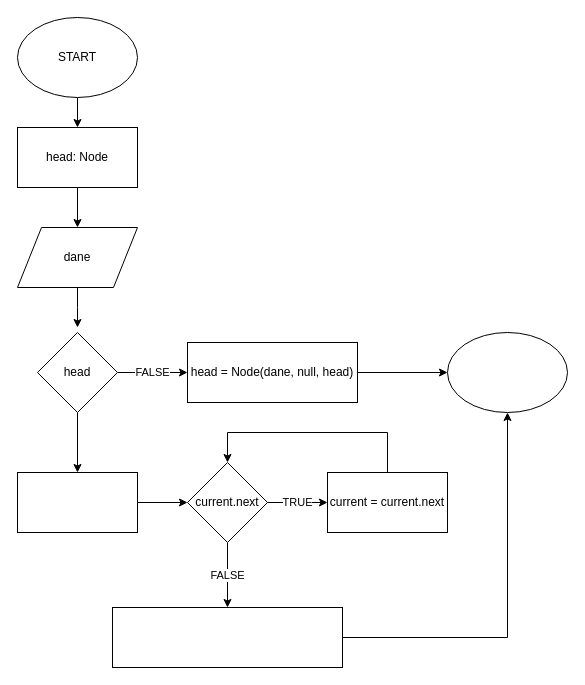
Some shapes in this 585 by 685 pixel diagram are drawn without their labels. Here are the shapes that lost their labels. From the top down, the centre of each, then its label:
At pixel 507 372: "STOP".
At pixel 77 502: "current = head".
At pixel 227 637: "current.next = Node(dane, null, current)".
